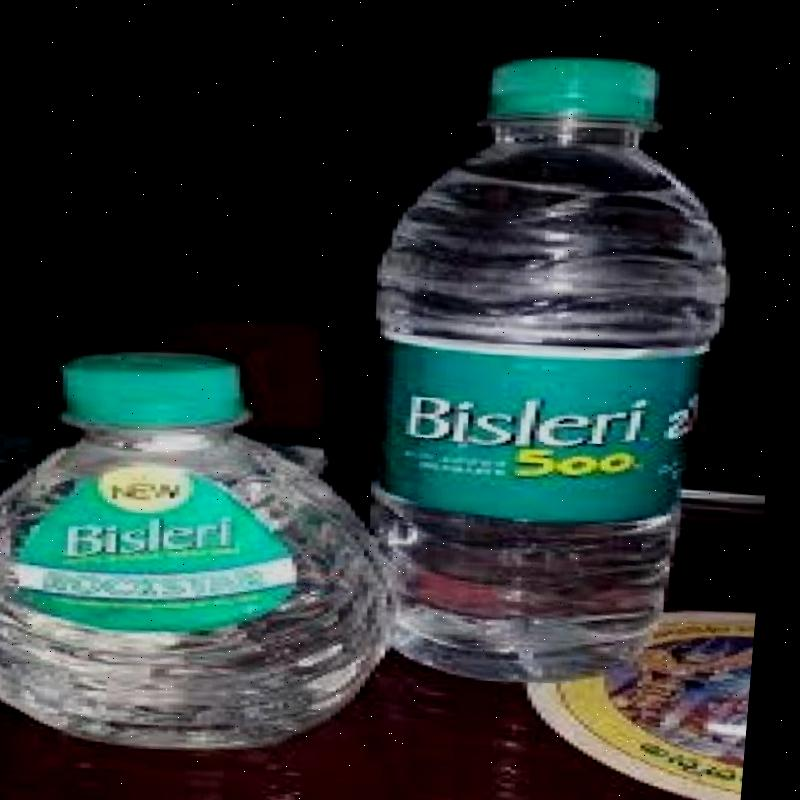botella: (334, 26, 778, 692), (0, 322, 429, 767)
